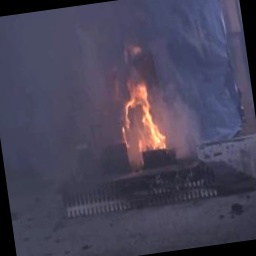fire: (113, 68, 169, 165)
